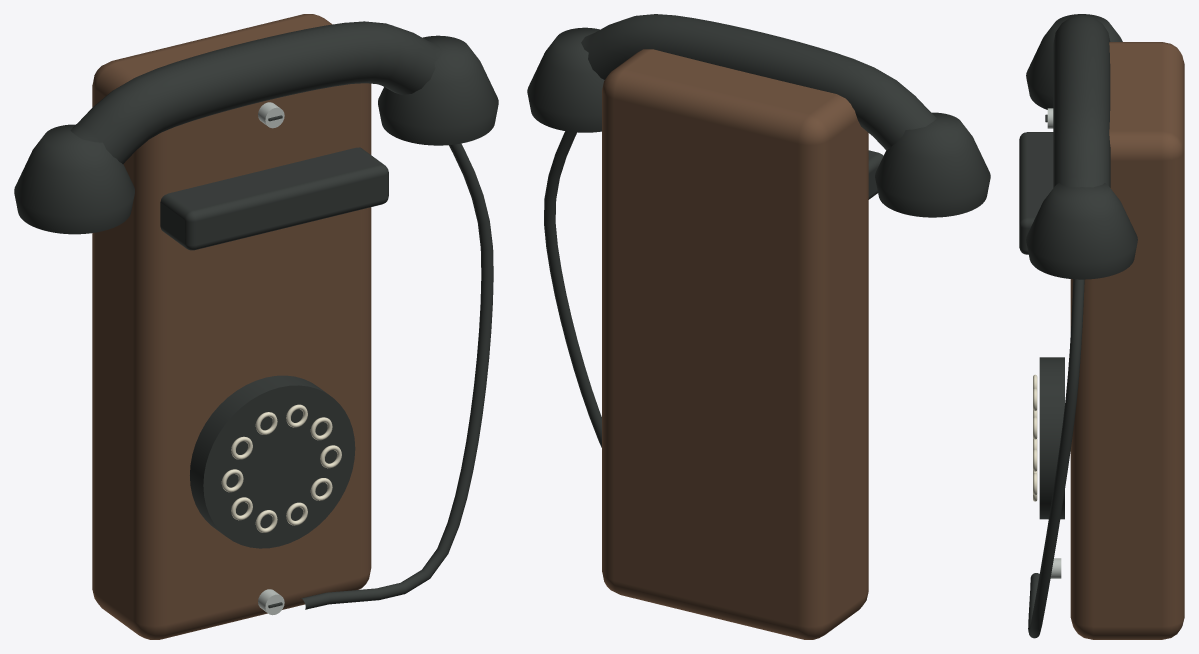
File: abandoned-telephone-exchange-wall-service-telephone-0dadc98b__31991.glb
3 views of the same model, side by side, from view 1: azimuth 30°, elevation 25°; view 2: azimuth 150°, elevation 25°; view 3: azimuth 270°, elevation 25° (orthographic). The views are drawn at different scales.
Parts seen in each view (by area): view 1: wall-service-telephone; view 2: wall-service-telephone; view 3: wall-service-telephone.
Boxes of the visible parts, bbox=[...] form: wall-service-telephone: bbox=[14, 14, 498, 639]; wall-service-telephone: bbox=[527, 14, 990, 639]; wall-service-telephone: bbox=[1019, 14, 1184, 639].
Bounding box in the file's own units: 0.438 × 0.5144 × 0.145.
